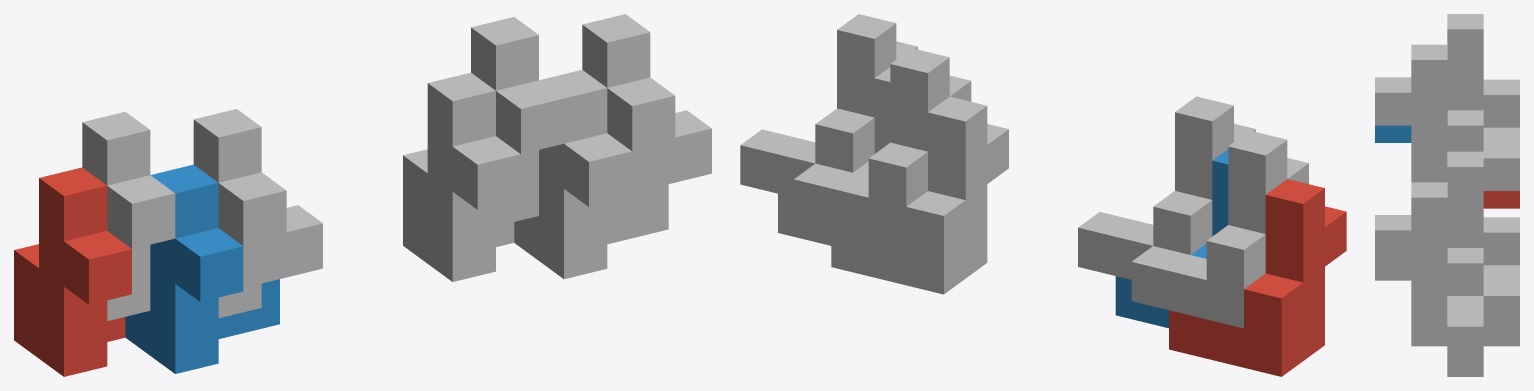
File: tiling.obj
3 renders of one model, left to right at view 1: azimuth 30°, elevation 25°; view 2: azimuth 150°, elevation 25°; view 3: azimuth 270°, elevation 25°, orthographic. The views are drawn at different scales.
Visible parts, largest first — view 1: copy_1_domain_1, copy_1_domain_5, copy_1_domain_6, copy_1_domain_2, copy_1_domain_4, copy_1_domain_8, copy_1_domain_3, copy_1_domain_7; view 2: copy_1_domain_5, copy_1_domain_1, copy_1_domain_7, copy_1_domain_3, copy_1_domain_8, copy_1_domain_4, copy_1_domain_2, copy_1_domain_6; view 3: copy_1_domain_8, copy_1_domain_4, copy_1_domain_7, copy_1_domain_3, copy_1_domain_6, copy_1_domain_1, copy_1_domain_2, copy_1_domain_5.
Boxes of the visible parts, x1,y1,x2,y2 form: copy_1_domain_1: (14,167,131,376); copy_1_domain_5: (403,72,520,281); copy_1_domain_6: (514,70,668,279); copy_1_domain_2: (125,164,279,373); copy_1_domain_4: (193,109,322,318); copy_1_domain_8: (582,14,711,223); copy_1_domain_3: (82,111,175,320); copy_1_domain_7: (471,17,563,226); copy_1_domain_5: (831,96,1008,294); copy_1_domain_1: (1169,179,1346,376); copy_1_domain_7: (793,48,971,245); copy_1_domain_3: (1131,130,1308,328); copy_1_domain_8: (740,14,917,197); copy_1_domain_4: (1078,96,1255,279); copy_1_domain_2: (1115,149,1228,328); copy_1_domain_6: (778,67,890,245); copy_1_domain_8: (1375,182,1483,359); copy_1_domain_4: (1375,44,1483,182); copy_1_domain_7: (1447,151,1519,328); copy_1_domain_3: (1447,14,1519,190); copy_1_domain_6: (1375,263,1483,376); copy_1_domain_1: (1483,191,1519,208); copy_1_domain_2: (1375,125,1411,142); copy_1_domain_5: (1483,329,1519,346).
Size of the model in its own units: 15 by 5 by 4.
